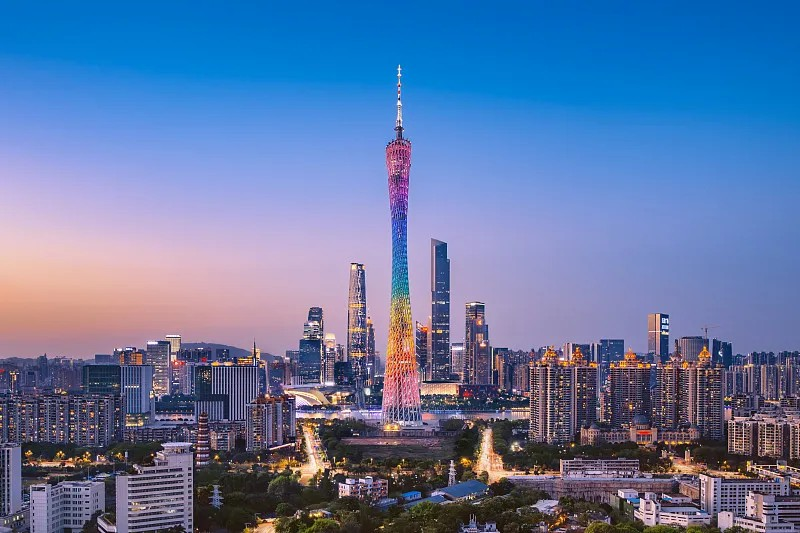Canton: (385, 63, 419, 421)
